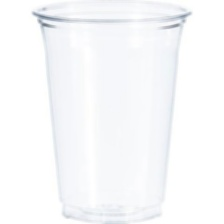glass: (26, 0, 194, 224)
